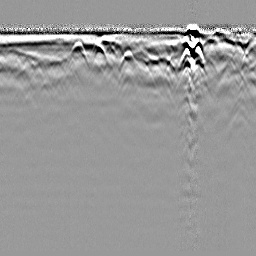cavity: (120, 49, 134, 70)
